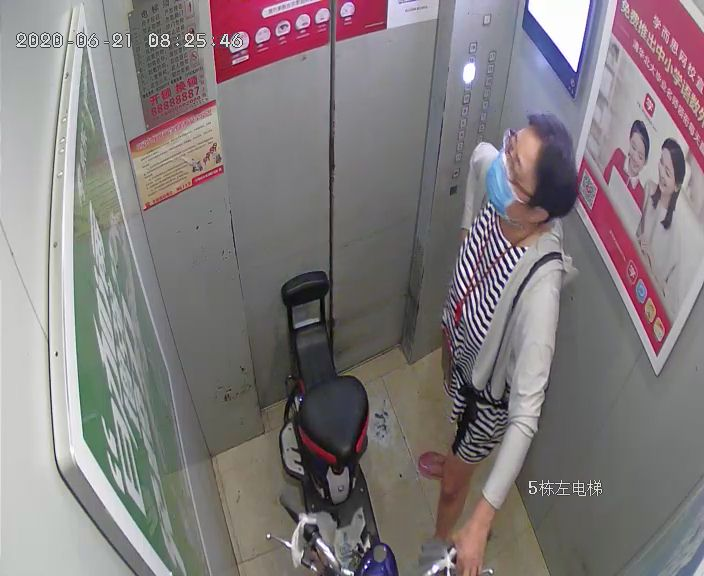Electric-bicycle: (265, 269, 459, 576)
